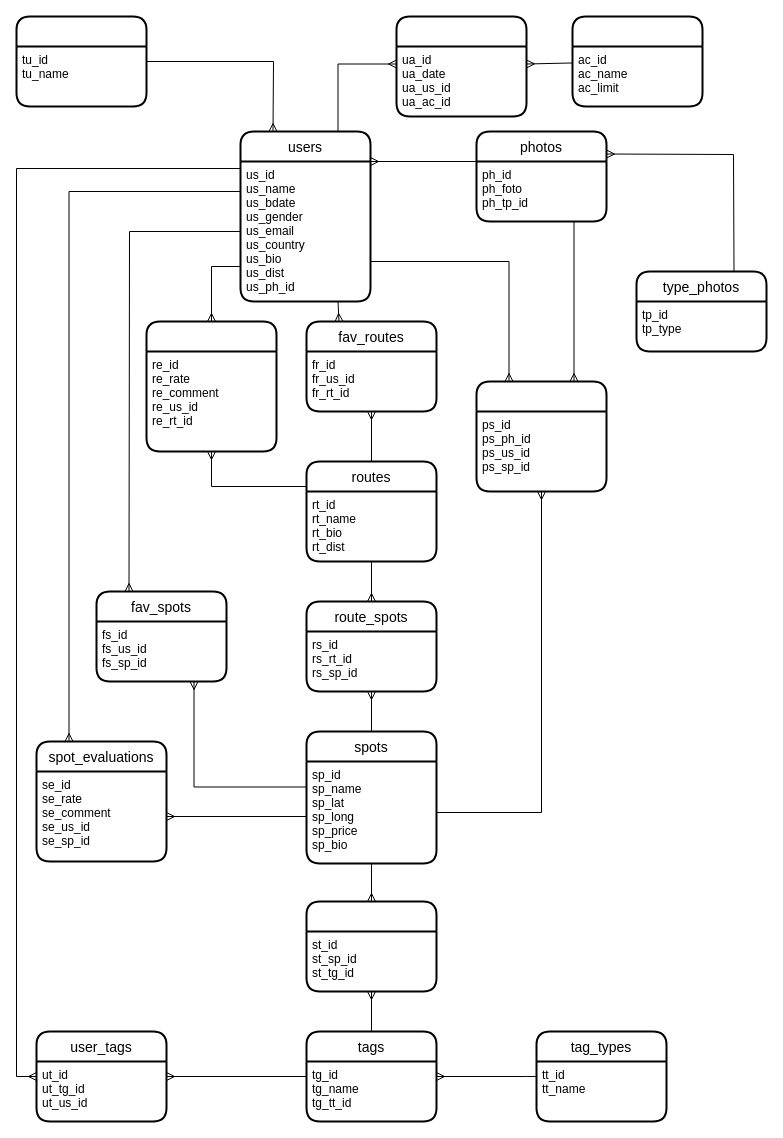
Image size: 783x1138. Some labels were removed from this diagram. The shapes that lost their labels are listed below. From the top down, each one's box as (x1, y1, x2, y2) in pixels, then its label:
(15, 15, 147, 107): type_users
(395, 15, 527, 117): user_achievements
(571, 15, 703, 107): achievements
(145, 320, 277, 452): route_evaluations
(475, 380, 607, 492): photo_spots
(305, 900, 437, 992): spots_tags
